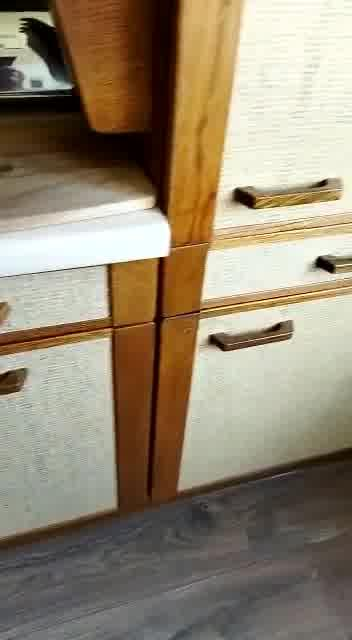cabinet_door: (170, 0, 352, 240), (159, 309, 352, 497), (159, 243, 352, 304)
handle: (228, 170, 346, 214), (210, 315, 297, 359)
